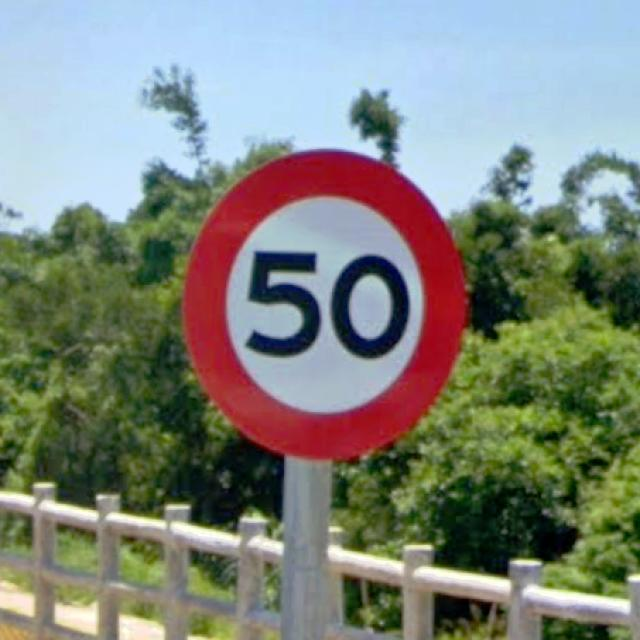max50: (178, 145, 470, 463)
